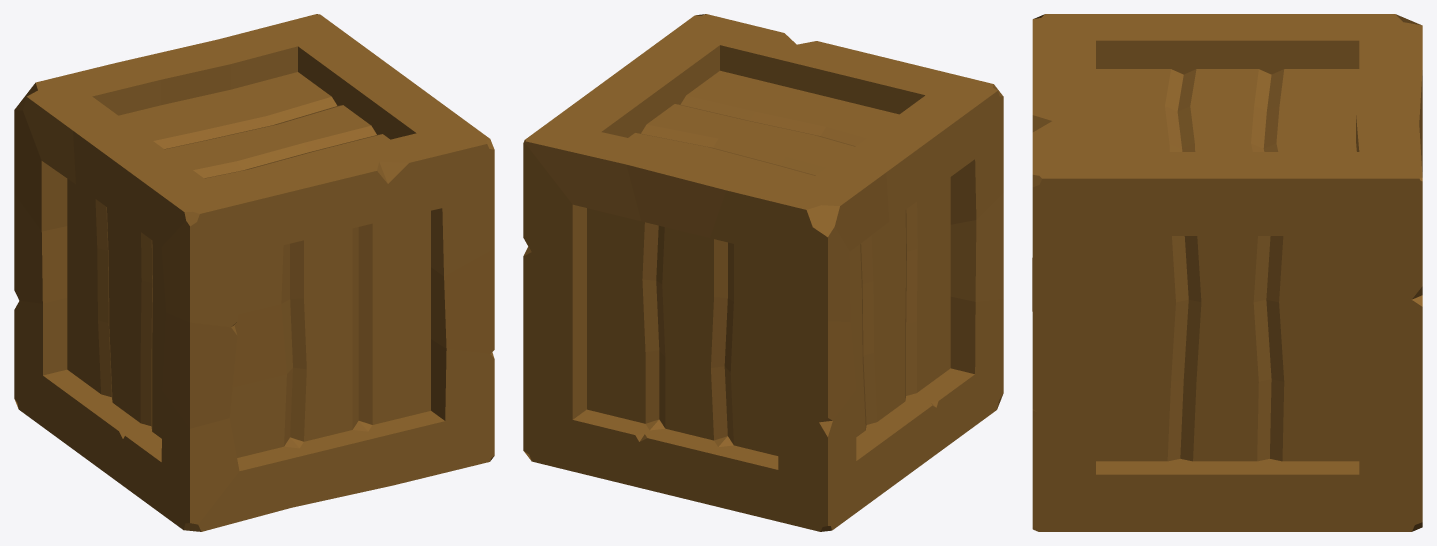
File: crate12122025.fbx
The picture shows the model from 3 angles, left to right: view 1: azimuth 30°, elevation 25°; view 2: azimuth 150°, elevation 25°; view 3: azimuth 270°, elevation 25°; orthographic projection. The views are drawn at different scales.
Visible parts, largest first — view 1: crate -col; view 2: crate -col; view 3: crate -col.
Part boxes in pixels (x1,y1,x2,y2): crate -col: (14, 14, 494, 531); crate -col: (523, 14, 1003, 531); crate -col: (1032, 14, 1422, 531).
Size of the model in its own units: 120 by 120 by 120.
